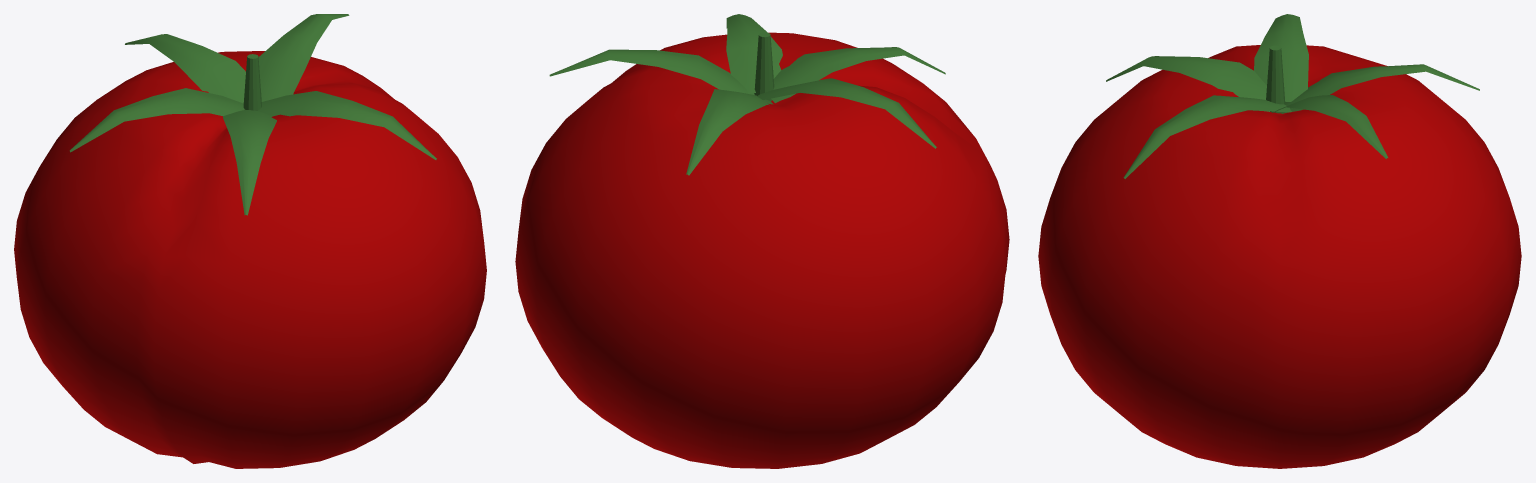
Rendered from Tomato.fbx.
The picture shows the model from 3 angles, left to right: view 1: azimuth 30°, elevation 25°; view 2: azimuth 150°, elevation 25°; view 3: azimuth 270°, elevation 25°; orthographic projection. The views are drawn at different scales.
Visible parts, largest first — view 1: WholeTomato; view 2: WholeTomato; view 3: WholeTomato.
Boxes of the visible parts, x1,y1,x2,y2 form: WholeTomato: (14, 14, 486, 468); WholeTomato: (515, 14, 1009, 468); WholeTomato: (1038, 14, 1521, 468).
Bounding box in the file's own units: 2 × 1.73 × 2.
